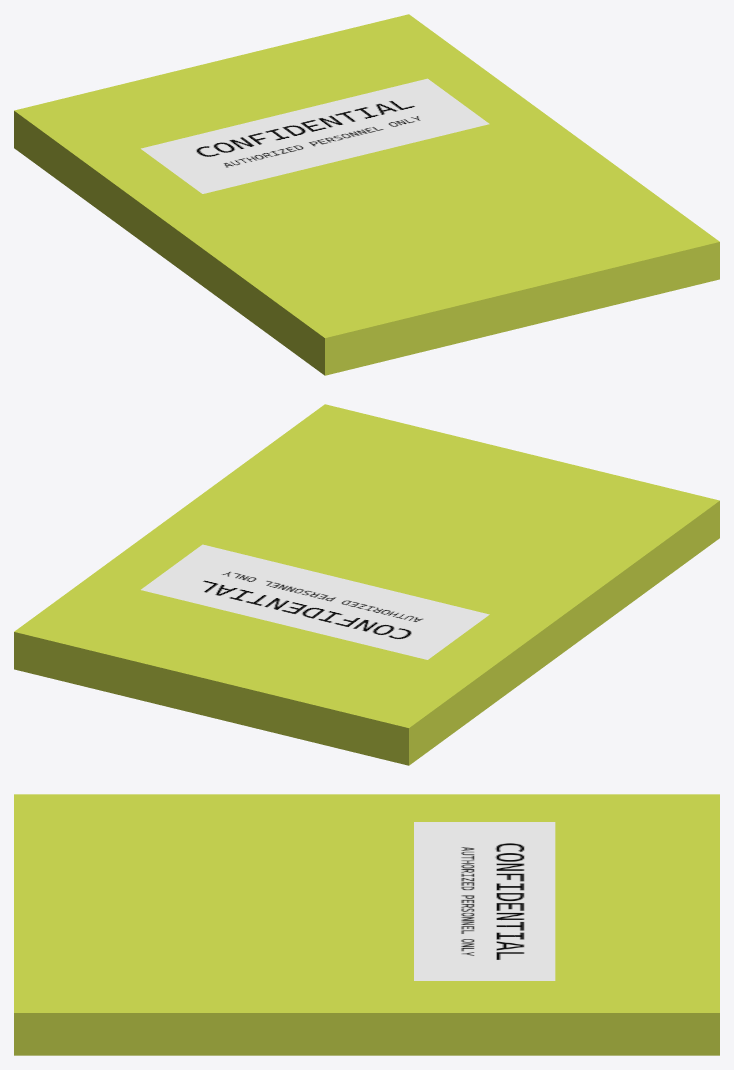
File: folder.glb
The picture shows the model from 3 angles, top to bottom: view 1: azimuth 30°, elevation 25°; view 2: azimuth 150°, elevation 25°; view 3: azimuth 270°, elevation 25°; orthographic projection. The views are drawn at different scales.
Visible parts, largest first — view 1: Cube; view 2: Cube; view 3: Cube.
Part boxes in pixels (left/top/right/bottom): Cube: left=14, top=14, right=719, bottom=375; Cube: left=14, top=404, right=719, bottom=765; Cube: left=14, top=794, right=719, bottom=1055.
Bounding box in the file's own units: 0.22 × 0.021 × 0.3.
2 materials, 1 textured.
